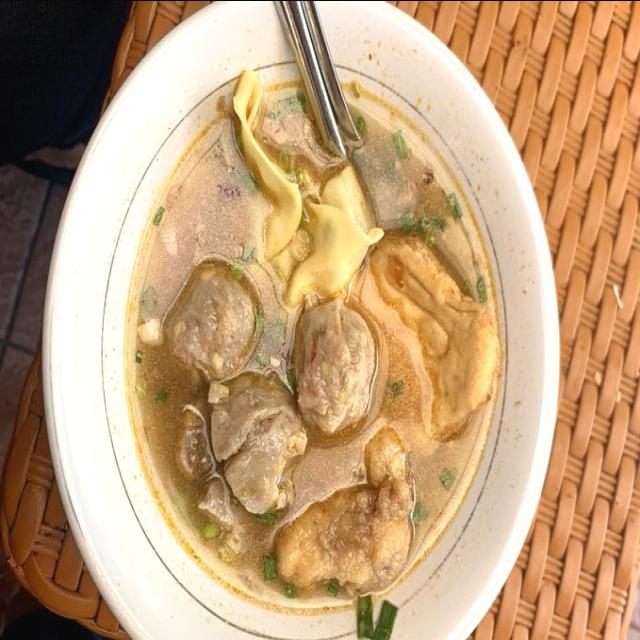bakso: (133, 67, 501, 603)
